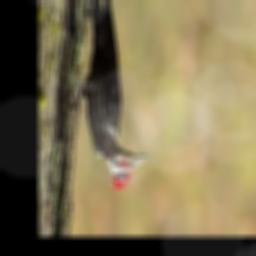Woodpecker: (67, 0, 146, 189)
